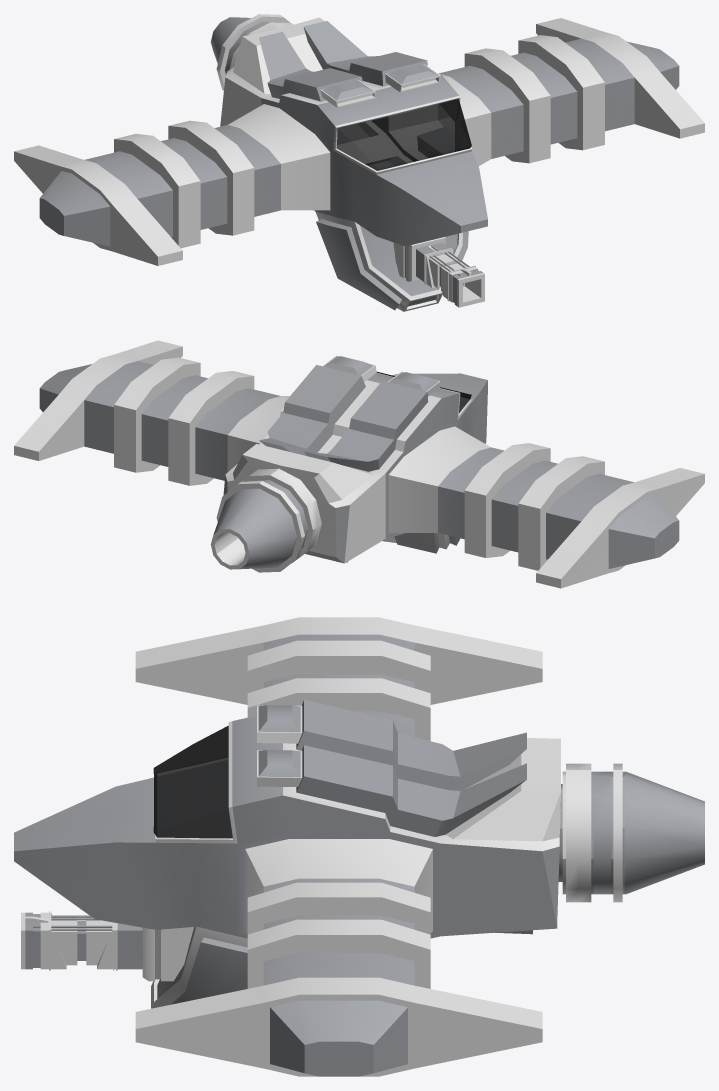
The model's file is CCB.fbx.
3 views of the same model, one above another, from view 1: azimuth 30°, elevation 25°; view 2: azimuth 150°, elevation 25°; view 3: azimuth 270°, elevation 25° (orthographic). The views are drawn at different scales.
Parts seen in each view (by area): view 1: CCB; view 2: CCB; view 3: CCB.
Boxes of the visible parts, x1=… form: CCB: x1=14, y1=14, x2=704, y2=311; CCB: x1=14, y1=340, x2=704, y2=588; CCB: x1=14, y1=617, x2=704, y2=1076.
Bounding box in the file's own units: 8.9 × 2.8 × 6.12.
